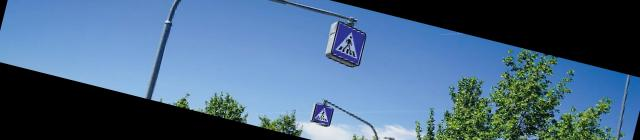crosswalk-sign: (324, 21, 370, 71), (311, 104, 335, 129)
